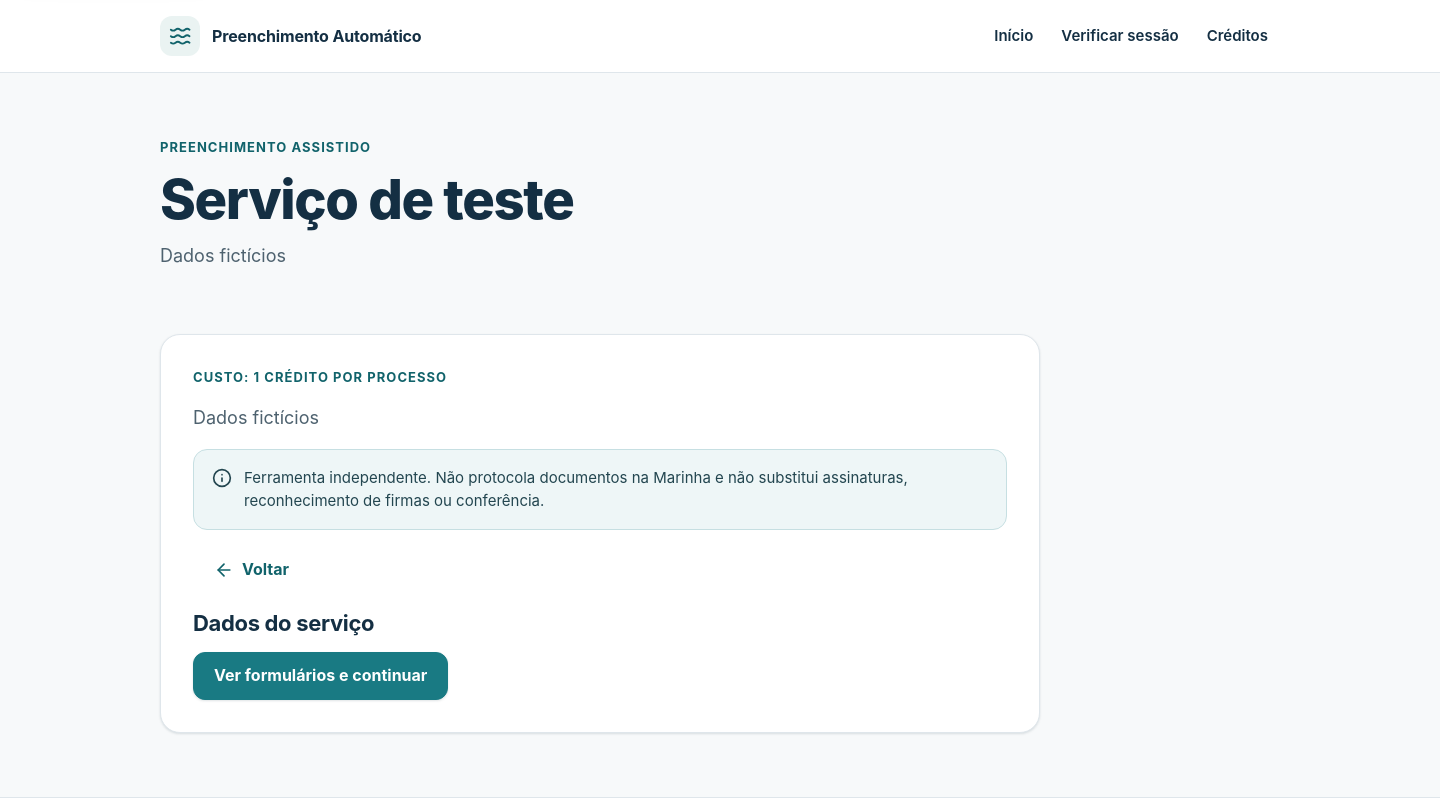
jornada real isolada da demonstração › mostra os formulários e anexos de saída sem listar documentos de protocolo
Click the button "Ver formulários e continuar" at x=321, y=676, box [193,652,448,700]
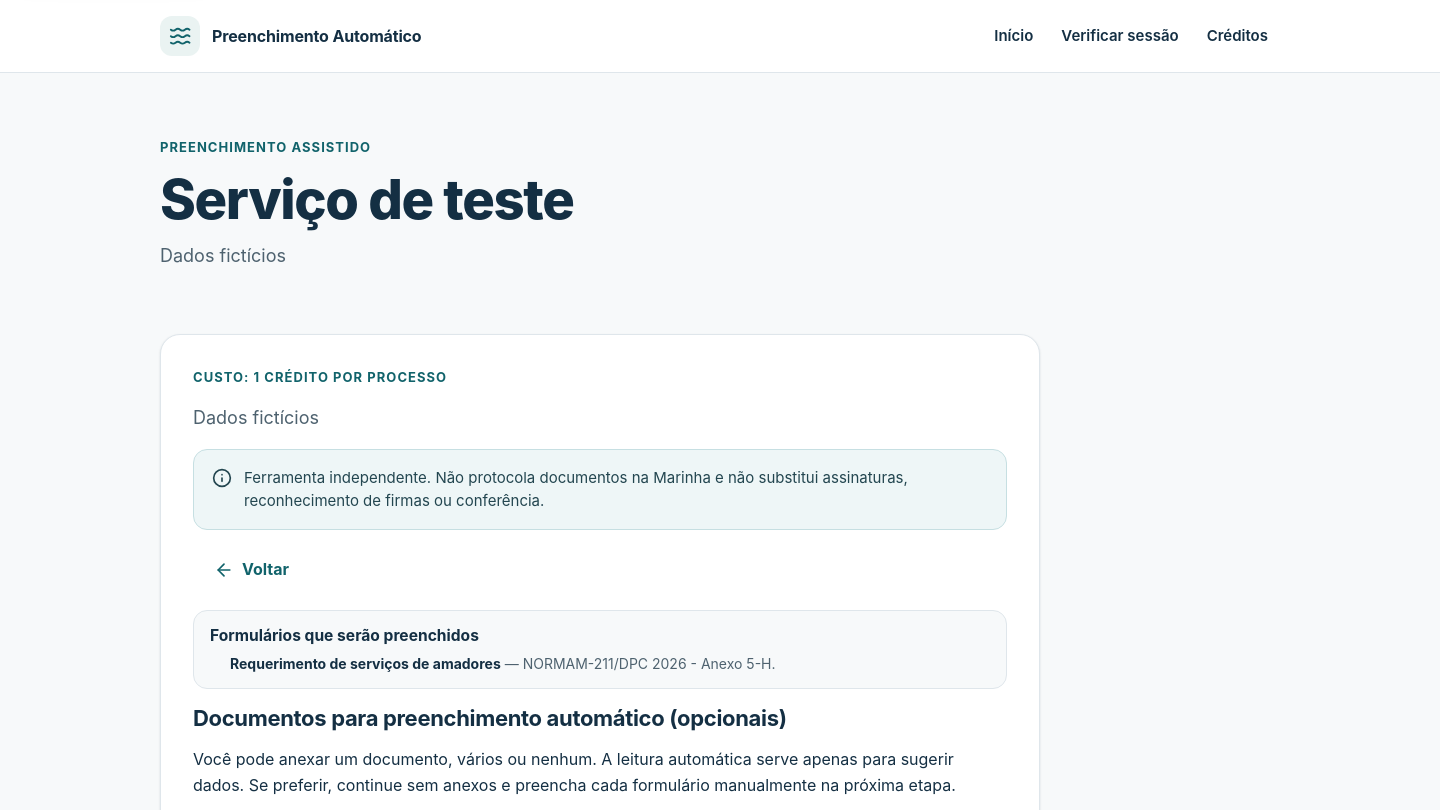
expect the heading "Formulários que serão preenchidos" is shown: met, box [210,626,479,644]
expect the text "Requerimento de serviços de amadores" is shown: met, box [230,655,501,672]
expect the list item "Anexo 5-H" is shown: met, box [501,655,776,672]
